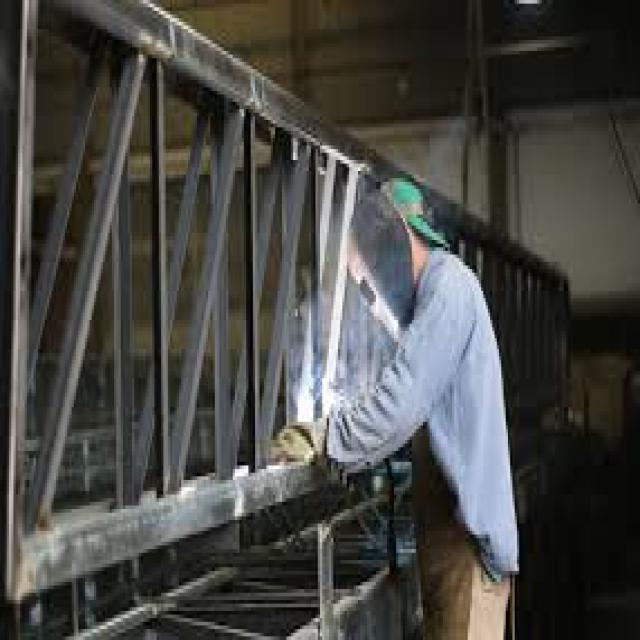with_helmet: (346, 176, 499, 364)
